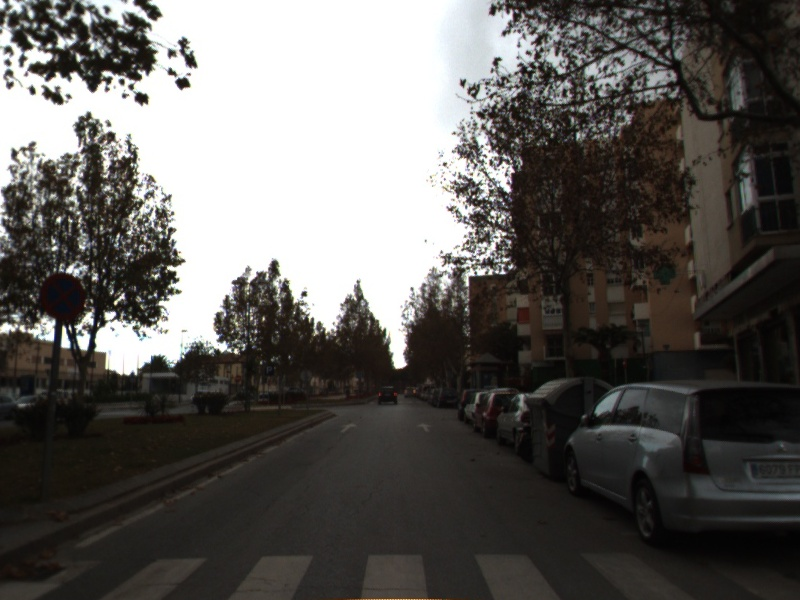STRAIGHT: (338, 421, 360, 435), (415, 420, 436, 434)
